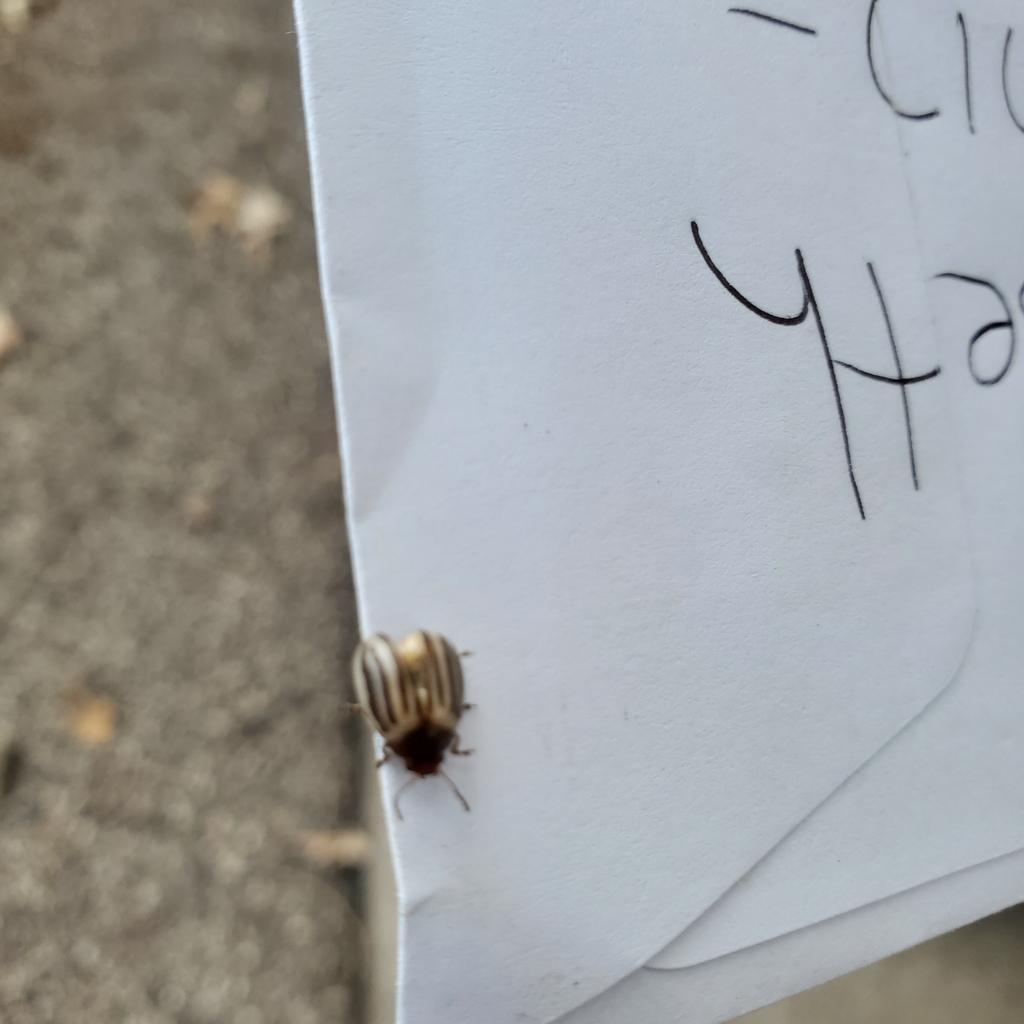potato_beetle: (315, 597, 519, 836)
